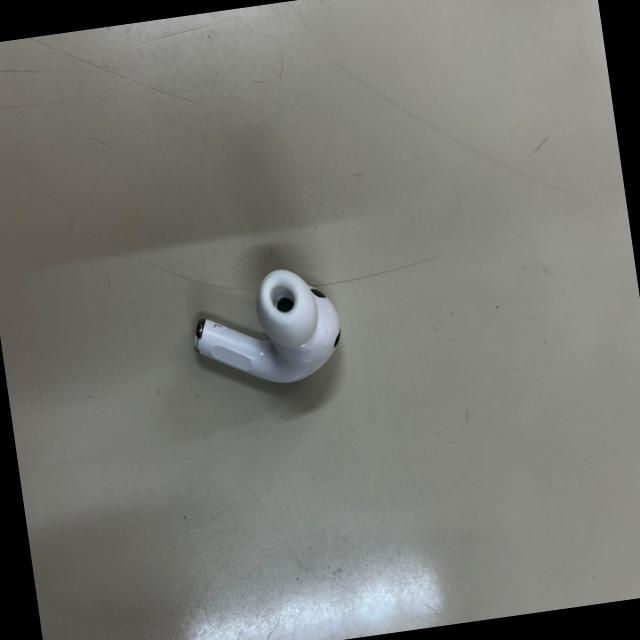inorganic: (184, 264, 347, 398)
